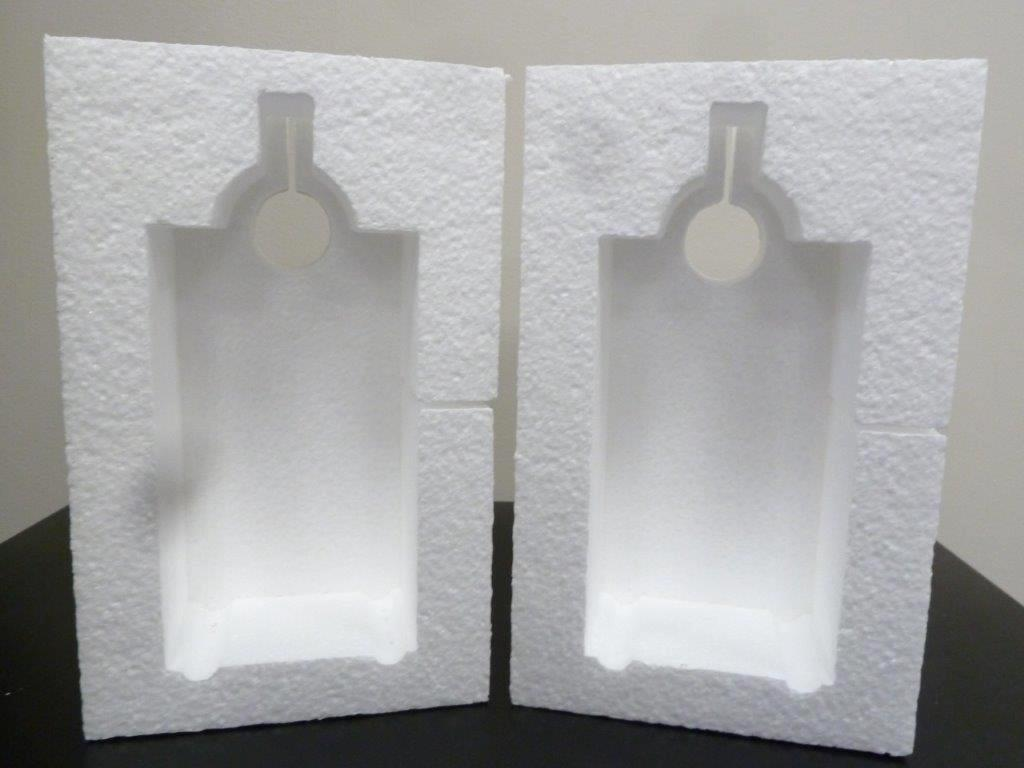泡沫箱: (512, 62, 982, 753), (45, 39, 503, 738)
